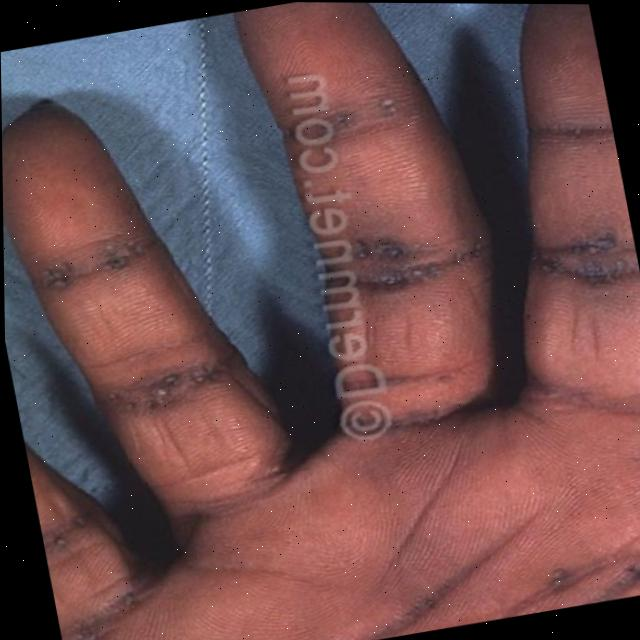Eczema: (499, 500, 640, 617), (110, 337, 255, 446), (531, 230, 640, 314), (51, 223, 136, 297), (348, 239, 409, 290), (43, 524, 94, 560)
